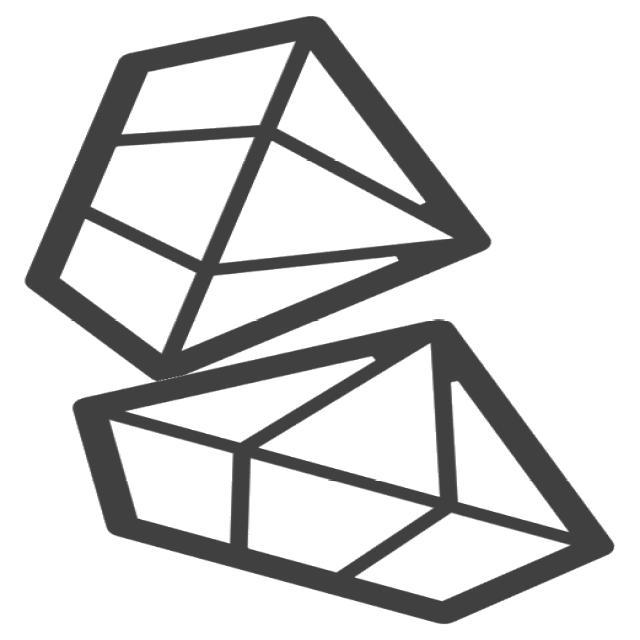diamond: (13, 8, 505, 395), (65, 311, 625, 634)
